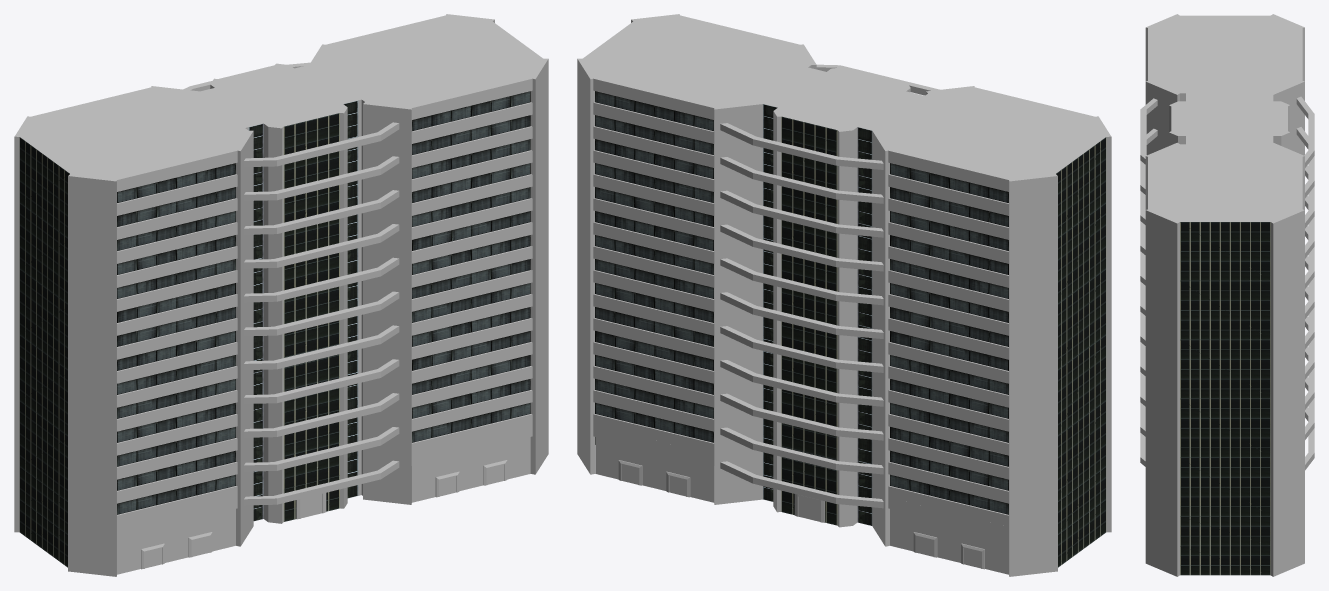
The picture shows the model from 3 angles, left to right: view 1: azimuth 30°, elevation 25°; view 2: azimuth 150°, elevation 25°; view 3: azimuth 270°, elevation 25°; orthographic projection. The views are drawn at different scales.
Parts seen in each view (by area): view 1: BC-074; view 2: BC-074; view 3: BC-074.
Boxes of the visible parts, x1,y1,x2,y2 form: BC-074: [14, 14, 548, 576]; BC-074: [577, 14, 1111, 576]; BC-074: [1140, 14, 1314, 576].
Size of what is drawn, in the model's own units: 74.33 by 58.46 by 26.12.
